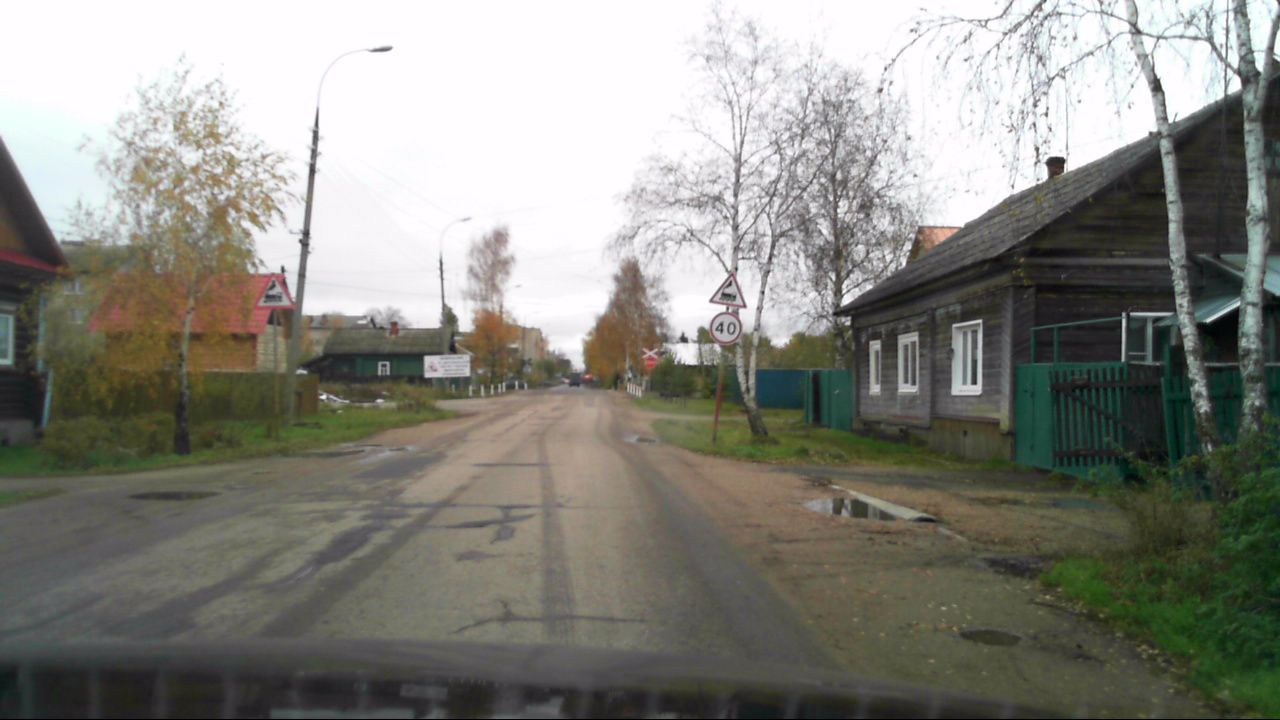speed_warning_40: (709, 311, 742, 345)
